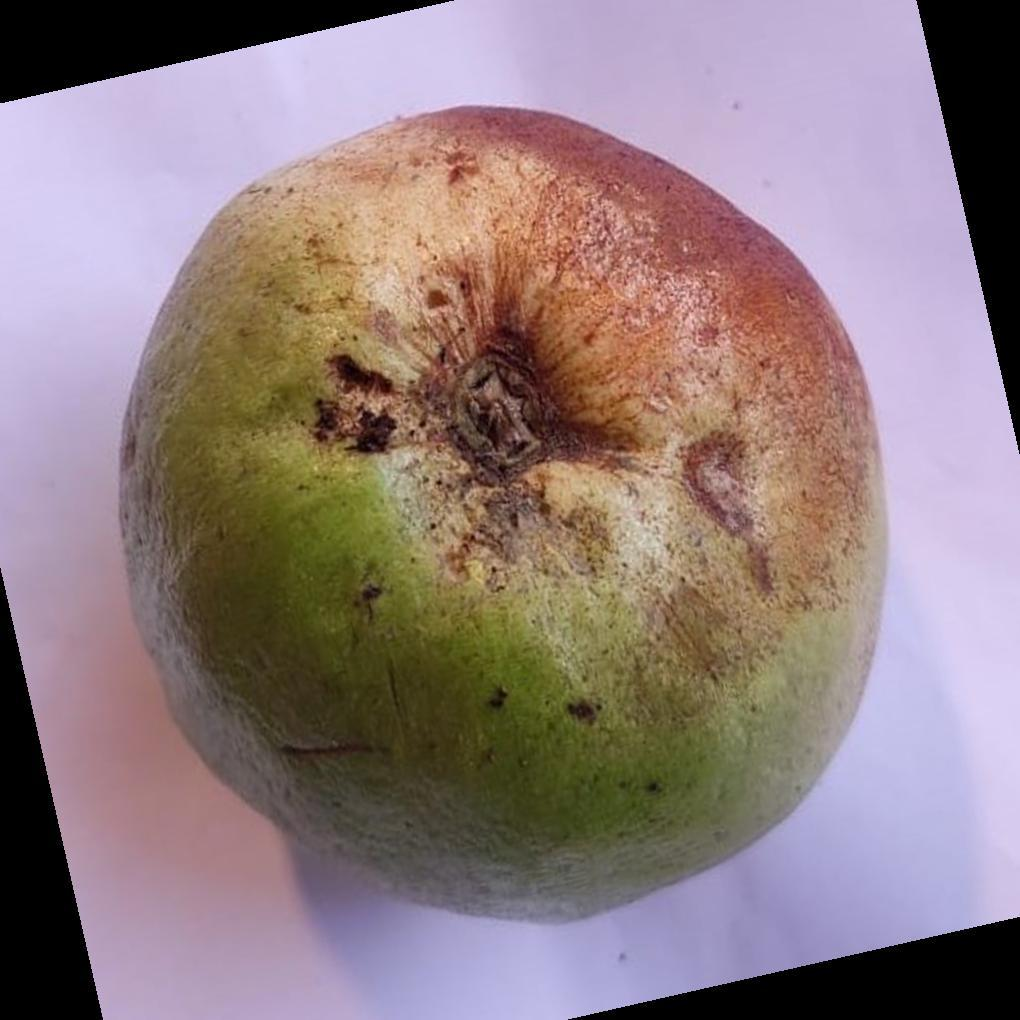FreshOrange: (117, 107, 890, 927)
